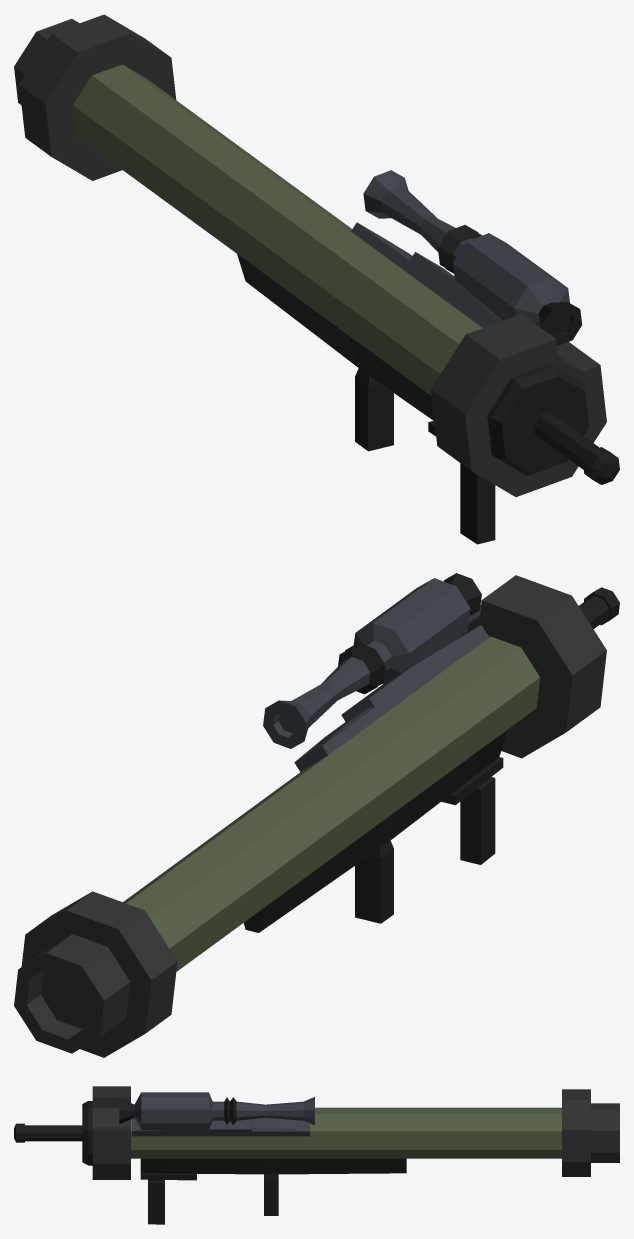
Rendered from Lvl3_Kraken_Gun_Model.fbx.
3 views of the same model, one above another, from view 1: azimuth 30°, elevation 25°; view 2: azimuth 150°, elevation 25°; view 3: azimuth 270°, elevation 25° (orthographic). The views are drawn at different scales.
Parts seen in each view (by area): view 1: Cylinder.022; view 2: Cylinder.022; view 3: Cylinder.022.
Part boxes in pixels (<box>): Cylinder.022: <box>14,14,619,544</box>; Cylinder.022: <box>14,573,619,1057</box>; Cylinder.022: <box>14,1086,619,1224</box>.
Size of the model in its own units: 43.2 by 70.31 by 274.
